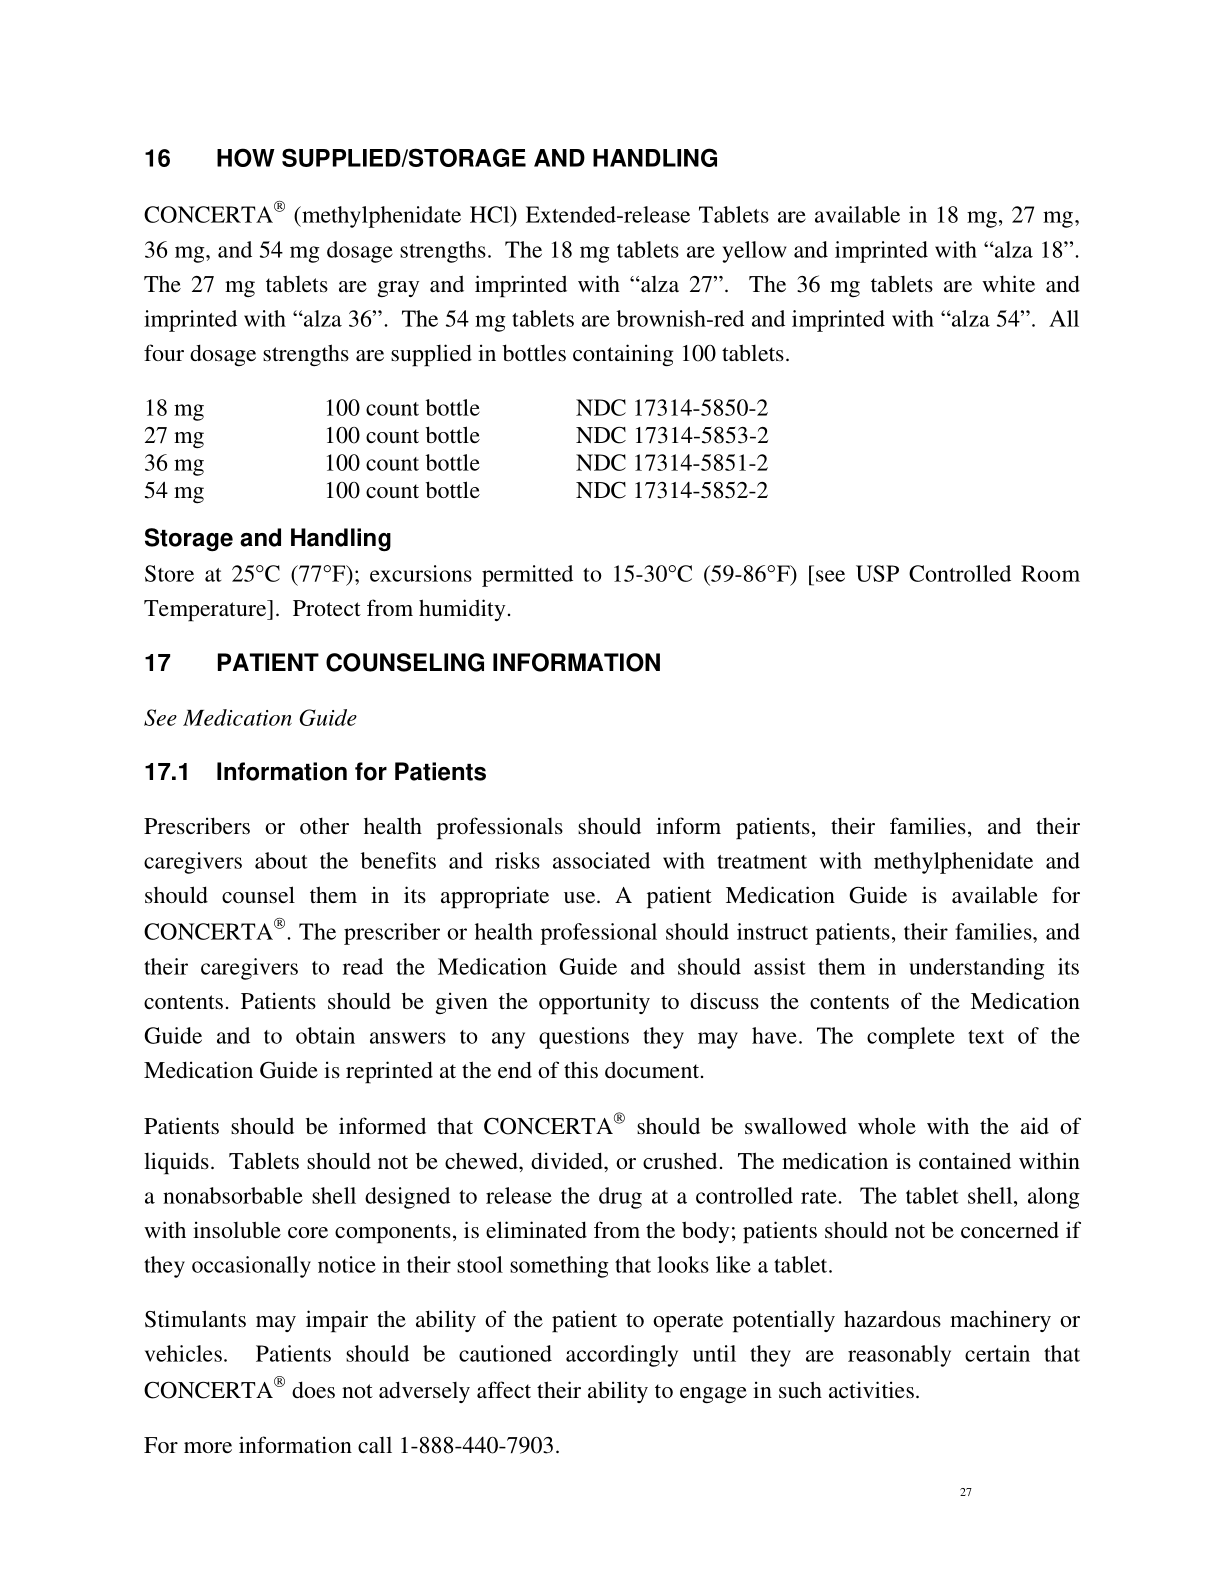nolines: (141, 395, 771, 501)
